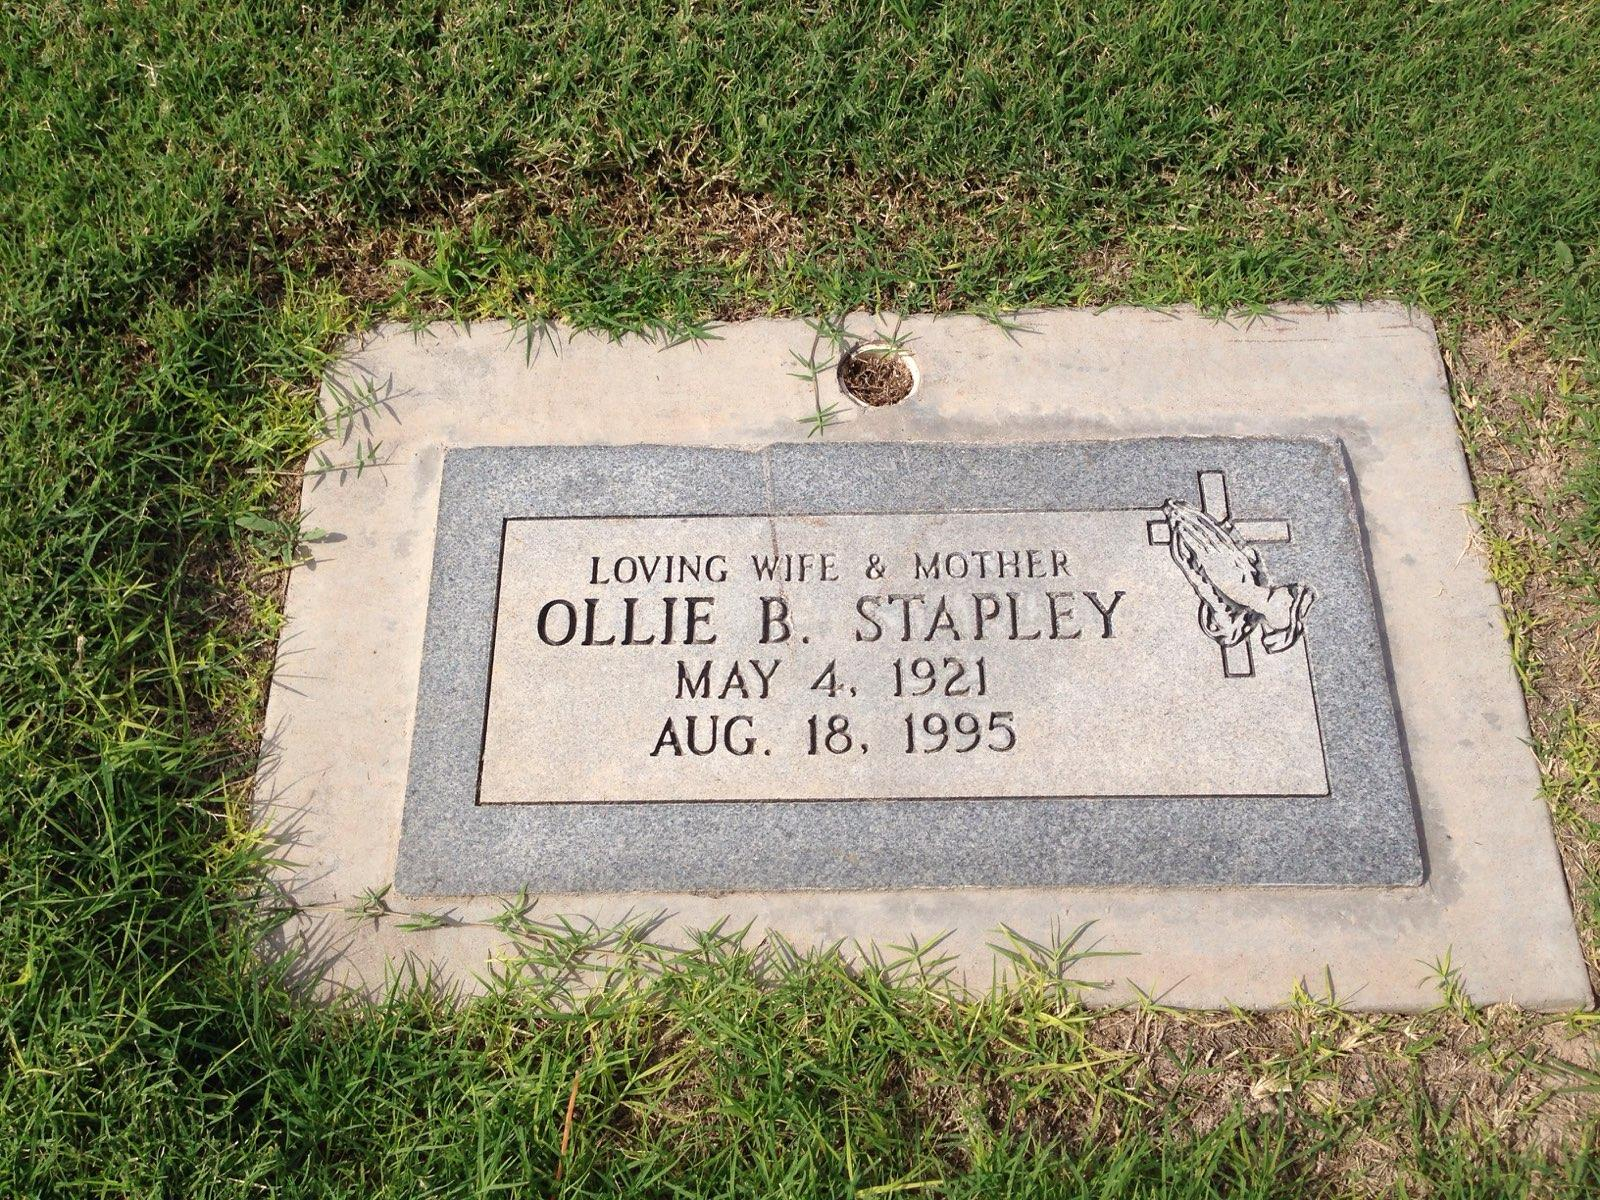flat: (251, 306, 1589, 1034)
